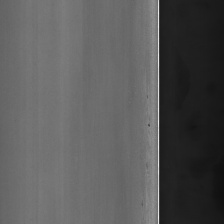inclusion: (140, 197, 147, 220), (146, 116, 152, 130), (145, 91, 150, 103)
